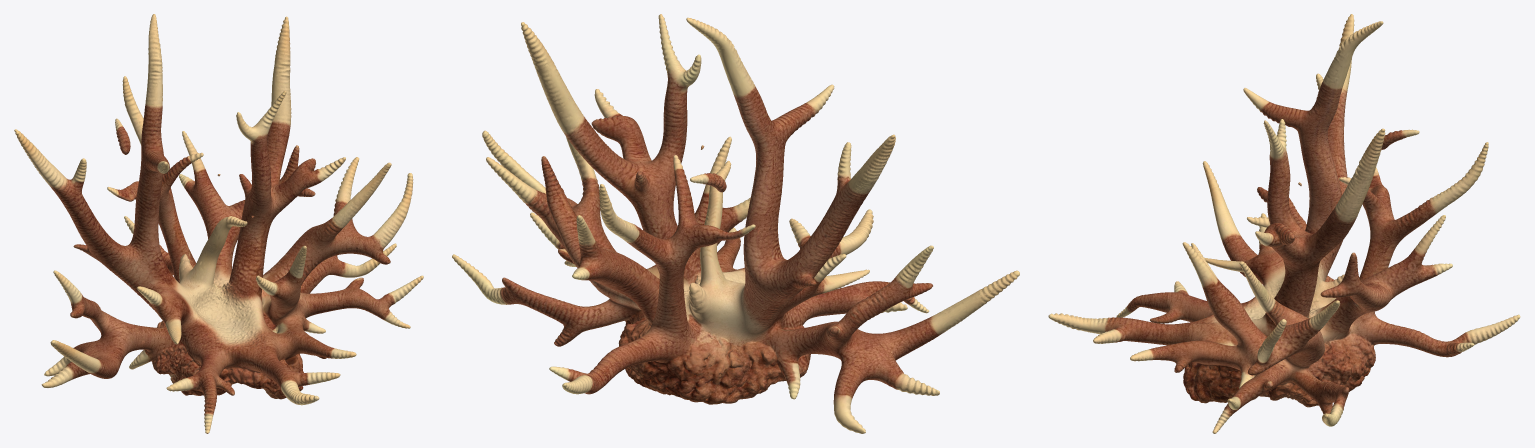
Rendered from photorealistic_coral_0.glb.
3 renders of one model, left to right at view 1: azimuth 30°, elevation 25°; view 2: azimuth 150°, elevation 25°; view 3: azimuth 270°, elevation 25°, orthographic. The views are drawn at different scales.
Bounding box in the file's own units: 1.9 × 1.49 × 1.81.
1 material, 1 textured.
